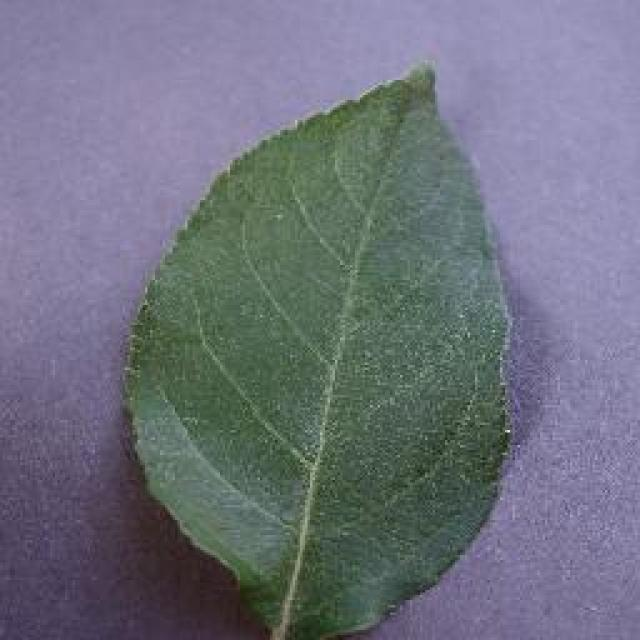apple healthy: (118, 55, 518, 637)
